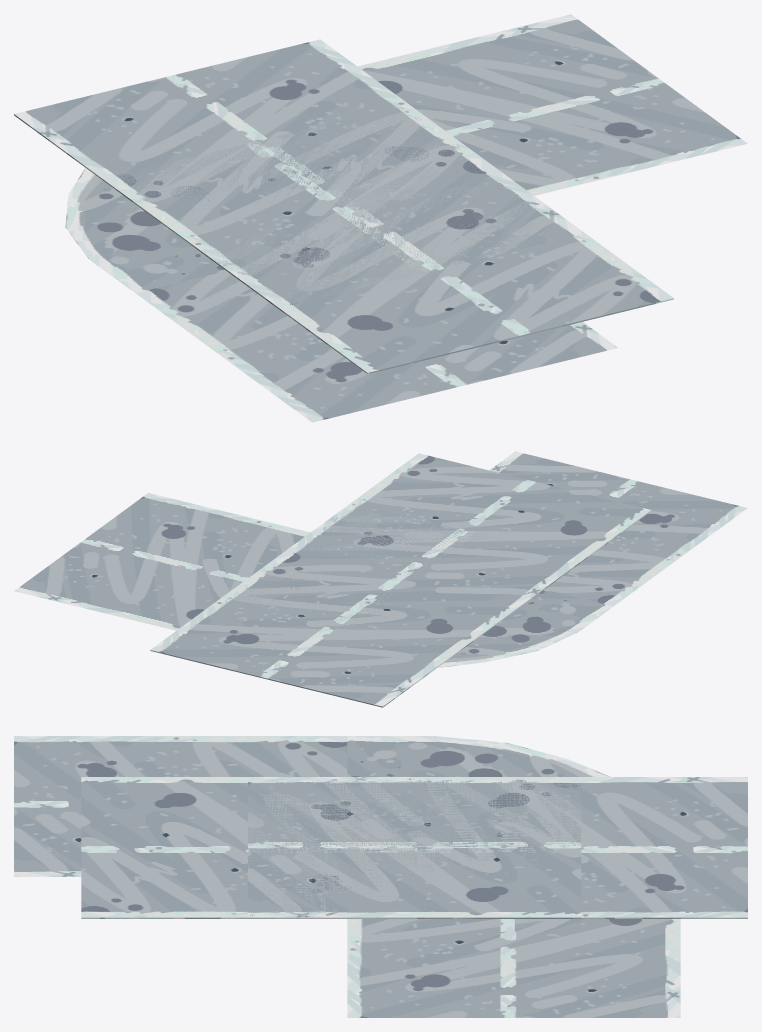
Rendered from Roads.glb.
The picture shows the model from 3 angles, top to bottom: view 1: azimuth 30°, elevation 25°; view 2: azimuth 150°, elevation 25°; view 3: azimuth 270°, elevation 25°; orthographic projection. The views are drawn at different scales.
Visible parts, largest first — view 1: Road_Default, Road_Turning, Road_crosssection; view 2: Road_Default, Road_Turning, Road_crosssection; view 3: Road_Default, Road_Turning, Road_crosssection.
Part boxes in pixels (left/top/right/bottom): Road_Default: left=14, top=39, right=673, bottom=373; Road_Turning: left=65, top=14, right=747, bottom=422; Road_crosssection: left=104, top=104, right=585, bottom=308; Road_Default: left=150, top=453, right=651, bottom=707; Road_Turning: left=14, top=451, right=747, bottom=667; Road_crosssection: left=218, top=502, right=584, bottom=635; Road_Default: left=81, top=777, right=747, bottom=918; Road_Turning: left=14, top=736, right=680, bottom=1017; Road_crosssection: left=248, top=777, right=581, bottom=918.
Size of the model in its own units: 20 by 0.04 by 22.02.
1 material, 1 textured.
